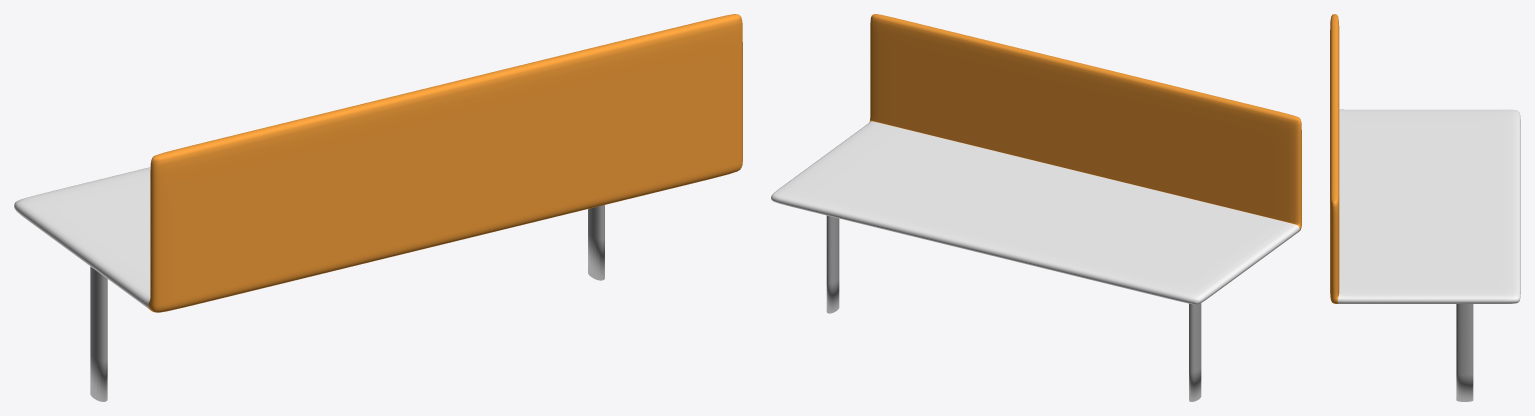
File: table_white_orange.fbx
The picture shows the model from 3 angles, left to right: view 1: azimuth 30°, elevation 25°; view 2: azimuth 150°, elevation 25°; view 3: azimuth 270°, elevation 25°; orthographic projection. The views are drawn at different scales.
Visible parts, largest first — view 1: Cube; view 2: Cube; view 3: Cube.
Boxes of the visible parts, left/top/right/bottom form: Cube: left=14, top=14, right=742, bottom=401; Cube: left=771, top=14, right=1301, bottom=401; Cube: left=1330, top=14, right=1520, bottom=401.
Bounding box in the file's own units: 610 × 320 × 259.
